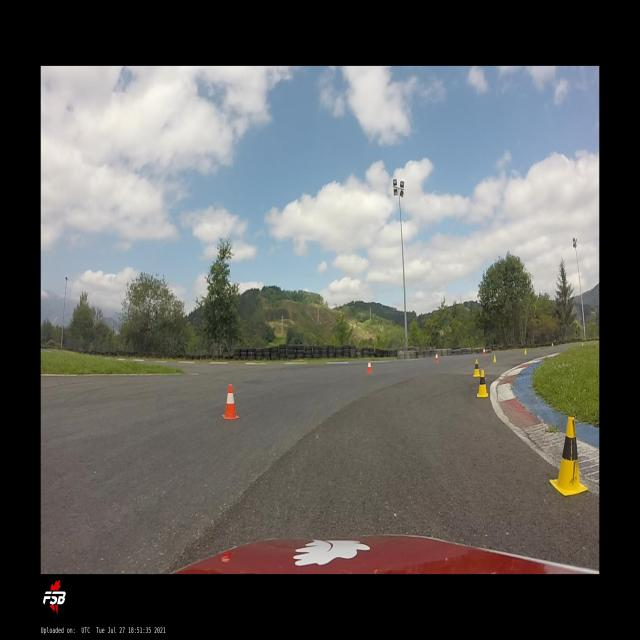orange_cone: (222, 384, 240, 420), (367, 359, 372, 373), (435, 352, 439, 362), (483, 348, 486, 356), (552, 342, 554, 348)
unknown_cone: (493, 354, 498, 362), (524, 348, 527, 355)
yellow_cone: (549, 417, 589, 496), (476, 369, 488, 397), (473, 358, 481, 376)
